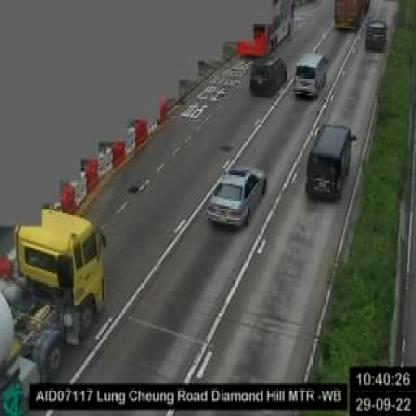Bus: (236, 0, 296, 57)
Car: (302, 120, 362, 201), (203, 164, 270, 230), (288, 47, 332, 102), (246, 52, 286, 101), (363, 14, 386, 55)
Truck: (0, 187, 107, 404), (333, 0, 368, 33)
